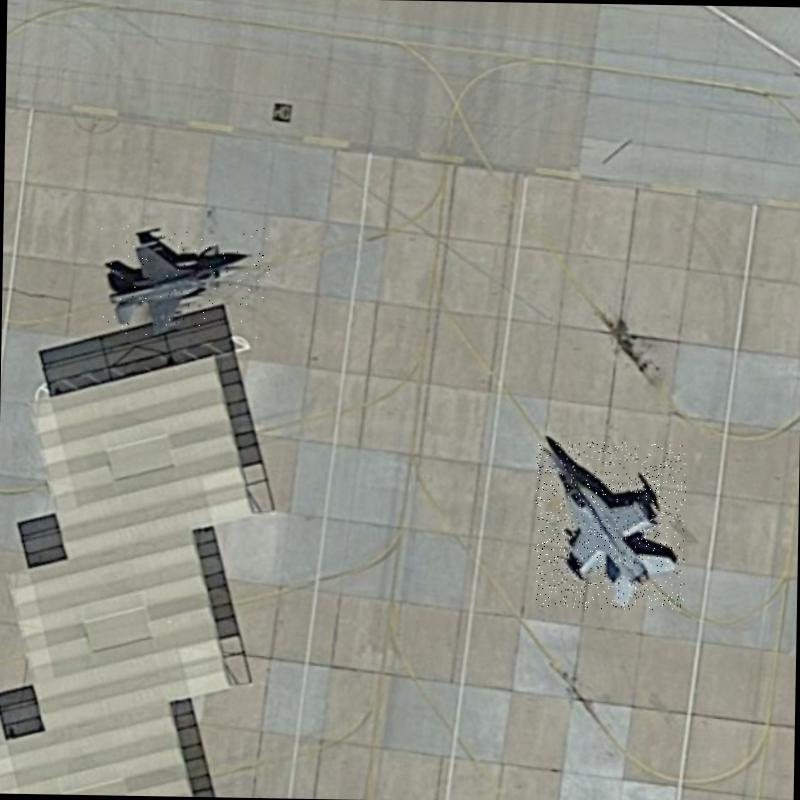A16: (534, 440, 686, 610)
A5: (99, 224, 271, 338)
